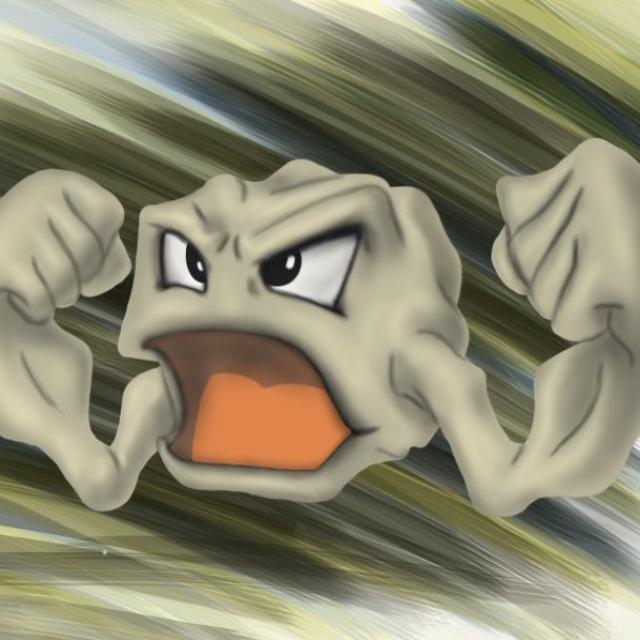Geodude: (2, 155, 640, 507)
